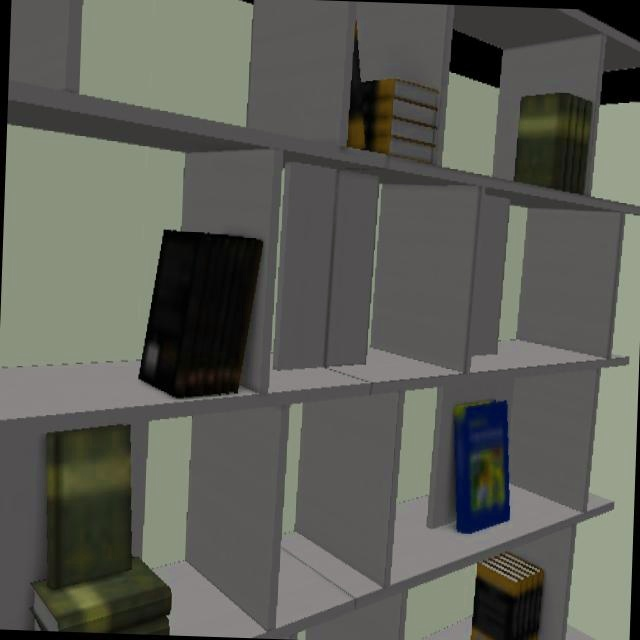book: (30, 425, 170, 635), (139, 230, 263, 400), (513, 90, 599, 194), (452, 401, 510, 534), (347, 80, 437, 162), (471, 552, 545, 640)
